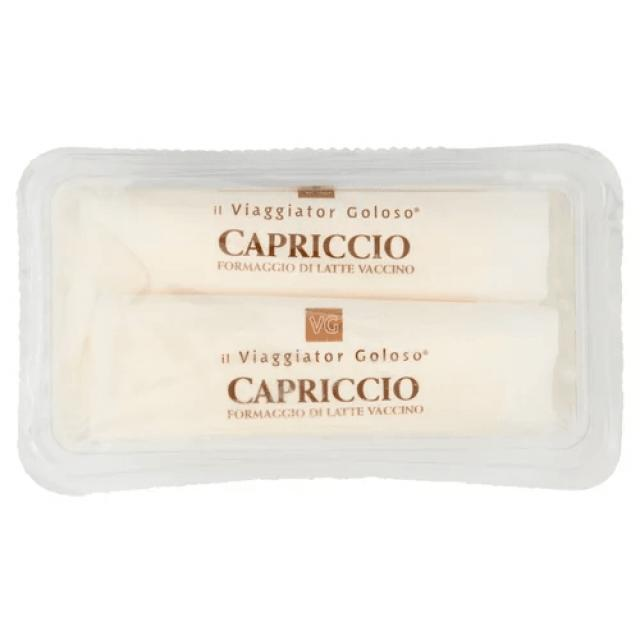Cheese: (15, 143, 626, 499)
